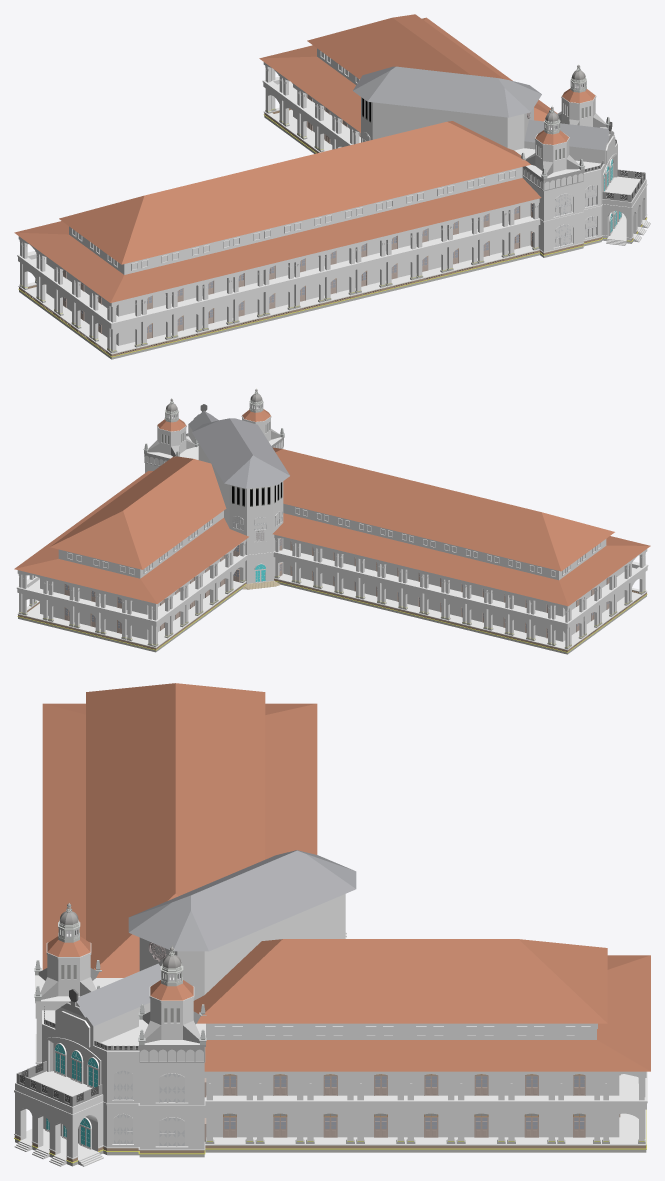
File: lawang-sewu.glb
The picture shows the model from 3 angles, top to bottom: view 1: azimuth 30°, elevation 25°; view 2: azimuth 150°, elevation 25°; view 3: azimuth 270°, elevation 25°; orthographic projection. The views are drawn at different scales.
Parts seen in each view (by area): view 1: Mesh1_Wood_Cherry_Original_0; view 2: Mesh1_Wood_Cherry_Original_0; view 3: Mesh1_Wood_Cherry_Original_0.
Boxes of the visible parts, x1,y1,x2,y2 form: Mesh1_Wood_Cherry_Original_0: (14, 14, 650, 359); Mesh1_Wood_Cherry_Original_0: (14, 388, 650, 654); Mesh1_Wood_Cherry_Original_0: (14, 683, 650, 1166).
Size of the model in its own units: 0.8296 by 0.2014 by 0.5874.
1 material, 1 textured.
